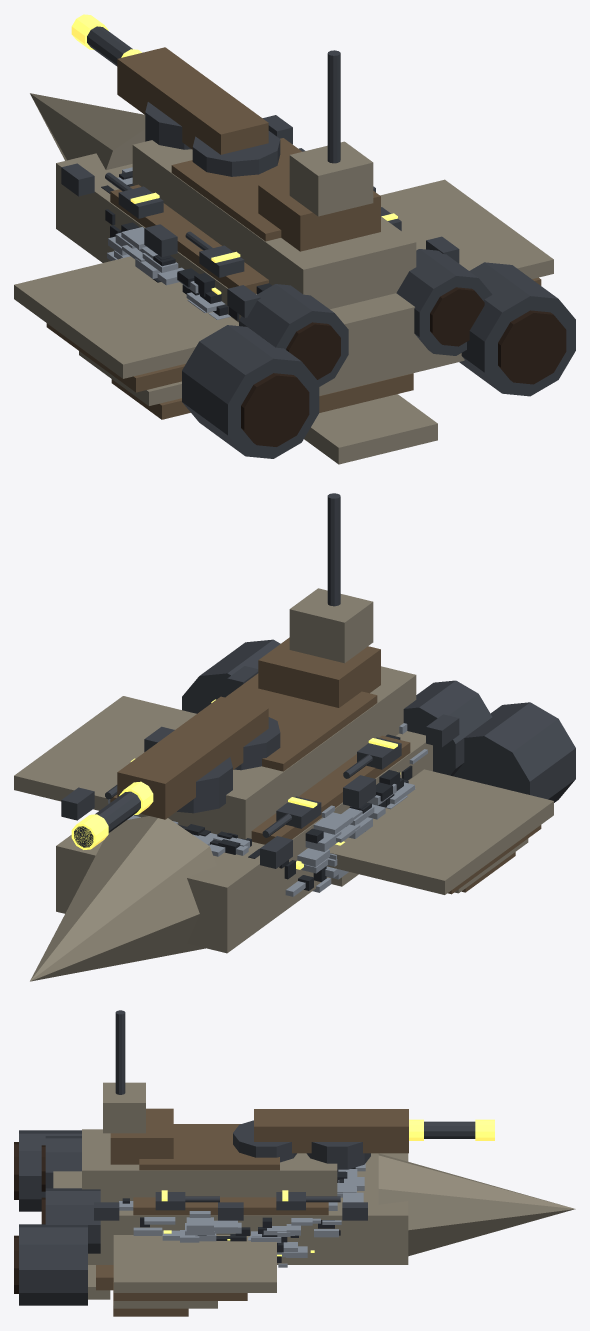
Rendered from plektor_capital.glb.
3 renders of one model, top to bottom at view 1: azimuth 30°, elevation 25°; view 2: azimuth 150°, elevation 25°; view 3: azimuth 270°, elevation 25°, orthographic. The views are drawn at different scales.
Parts seen in each view (by area): view 1: hull, engines, turret_1, turret_0, aux_0, aux_2, pd_0, pd_2, pd_4; view 2: hull, engines, turret_0, turret_1, aux_0, aux_2, pd_1, pd_4, pd_2, pd_0; view 3: hull, engines, turret_0, turret_1, aux_3, aux_1, pd_1, pd_3, pd_5.
Boxes of the visible parts, x1,y1,x2,y2 form: hull: (14, 50, 553, 464); engines: (182, 249, 575, 458); turret_1: (121, 49, 280, 176); turret_0: (71, 14, 220, 149); aux_0: (105, 172, 163, 218); aux_2: (185, 231, 244, 277); pd_0: (61, 163, 94, 196); pd_2: (144, 224, 177, 257); pd_4: (227, 285, 260, 317); hull: (14, 493, 553, 981); engines: (182, 639, 575, 802); turret_0: (71, 732, 232, 849); turret_1: (119, 696, 280, 815); aux_0: (262, 796, 321, 837); aux_2: (343, 737, 401, 778); pd_1: (61, 787, 94, 820); pd_4: (426, 714, 459, 747); pd_2: (343, 775, 375, 808); pd_0: (260, 836, 292, 868); hull: (53, 1010, 575, 1316); engines: (14, 1130, 100, 1305); turret_0: (306, 1109, 494, 1169); turret_1: (233, 1109, 423, 1162); aux_3: (155, 1190, 219, 1210); aux_1: (276, 1190, 340, 1210); pd_1: (342, 1202, 367, 1220); pd_3: (218, 1202, 243, 1220); pd_5: (94, 1202, 119, 1220).
Size of the model in its own units: 137 by 109 by 207.
